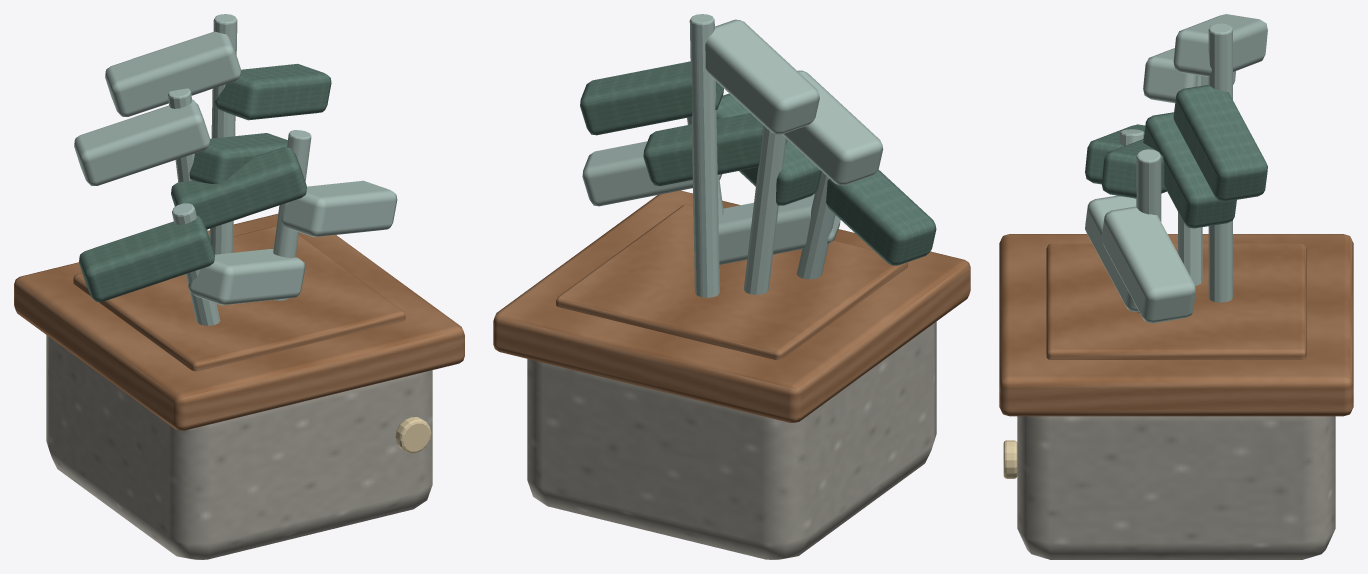
Rendered from architectural-planter.glb.
3 views of the same model, side by side, from view 1: azimuth 30°, elevation 25°; view 2: azimuth 150°, elevation 25°; view 3: azimuth 270°, elevation 25° (orthographic). The views are drawn at different scales.
Visible parts, largest first — view 1: Planter_Base, Planter_Rim, Planter_Soil, Planter_Leaf_1_1, Planter_Leaf_4_1, Planter_Leaf_3_1, Planter_Leaf_2_1, Planter_Leaf_2_2, Planter_Leaf_3_2, Planter_Leaf_4_2, Planter_Leaf_1_2, Planter_Stem_3 (+4 smaller); view 2: Planter_Base, Planter_Rim, Planter_Soil, Planter_Leaf_3_1, Planter_Stem_3, Planter_Leaf_4_1, Planter_Leaf_3_2, Planter_Leaf_1_1, Planter_Leaf_1_2, Planter_Stem_1, Planter_Leaf_2_2, Planter_Leaf_4_2 (+2 smaller); view 3: Planter_Base, Planter_Rim, Planter_Soil, Planter_Leaf_3_2, Planter_Leaf_2_2, Planter_Leaf_1_2, Planter_Stem_3, Planter_Leaf_3_1, Planter_Leaf_2_1, Planter_Leaf_1_1, Planter_Leaf_4_2, Planter_Stem_2 (+3 smaller).
Boxes of the visible parts, x1,y1,x2,y2 form: Planter_Base: (46, 335, 432, 559); Planter_Rim: (14, 214, 464, 430); Planter_Soil: (73, 226, 405, 371); Planter_Leaf_1_1: (74, 99, 210, 185); Planter_Leaf_4_1: (79, 215, 214, 301); Planter_Leaf_3_1: (105, 31, 241, 116); Planter_Leaf_2_1: (171, 147, 306, 229); Planter_Leaf_2_2: (281, 180, 397, 237); Planter_Leaf_3_2: (215, 63, 331, 120); Planter_Leaf_4_2: (188, 249, 305, 305); Planter_Leaf_1_2: (189, 133, 287, 183); Planter_Stem_3: (209, 14, 237, 254); Planter_Base: (527, 321, 936, 559); Planter_Rim: (493, 190, 970, 422); Planter_Soil: (556, 204, 907, 359); Planter_Leaf_3_1: (705, 19, 819, 134); Planter_Stem_3: (689, 14, 719, 297); Planter_Leaf_4_1: (814, 169, 936, 265); Planter_Leaf_3_2: (580, 61, 723, 135); Planter_Leaf_1_1: (782, 70, 883, 185); Planter_Leaf_1_2: (643, 113, 787, 185); Planter_Stem_1: (743, 125, 786, 294); Planter_Leaf_2_2: (582, 141, 722, 206); Planter_Leaf_4_2: (718, 194, 840, 264); Planter_Base: (1017, 416, 1335, 559); Planter_Rim: (999, 234, 1353, 416); Planter_Soil: (1046, 243, 1306, 359); Planter_Leaf_3_2: (1173, 85, 1267, 201); Planter_Leaf_2_2: (1101, 206, 1195, 323); Planter_Leaf_1_2: (1143, 112, 1236, 228); Planter_Stem_3: (1208, 23, 1232, 302); Planter_Leaf_3_1: (1173, 14, 1267, 76); Planter_Leaf_2_1: (1101, 139, 1166, 198); Planter_Leaf_1_1: (1143, 48, 1235, 103); Planter_Leaf_4_2: (1085, 195, 1138, 311); Planter_Stem_2: (1136, 149, 1161, 313).
Size of the model in its own units: 1.4 by 1.92 by 1.28.
Materials: 6 (4 with a texture image).
